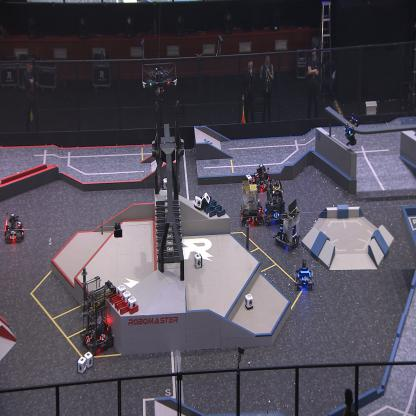car: (80, 275, 114, 355), (272, 196, 302, 251), (239, 174, 265, 226), (262, 178, 287, 226), (3, 212, 25, 243), (294, 258, 314, 292), (249, 163, 271, 193)
